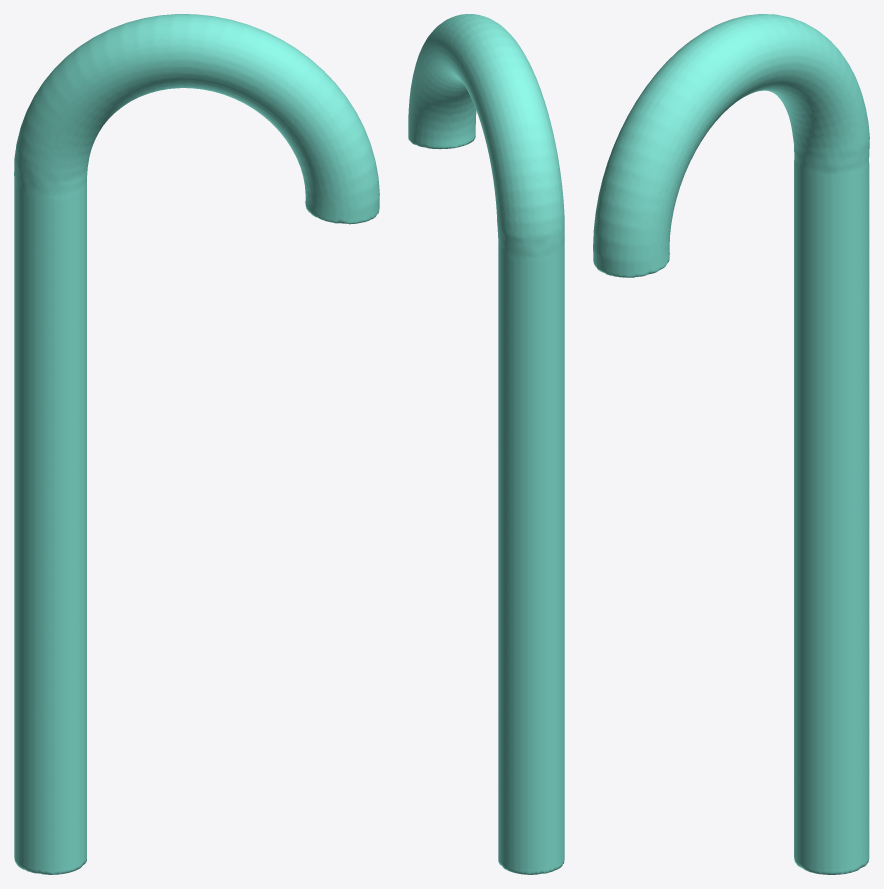
Rendered from Cane.fbx.
3 renders of one model, left to right at view 1: azimuth 30°, elevation 25°; view 2: azimuth 150°, elevation 25°; view 3: azimuth 270°, elevation 25°, orthographic. The views are drawn at different scales.
Visible parts, largest first — view 1: PM3D_Ring3D1; view 2: PM3D_Ring3D1; view 3: PM3D_Ring3D1.
Part boxes in pixels (x1,y1,x2,y2): PM3D_Ring3D1: [14, 14, 379, 874]; PM3D_Ring3D1: [408, 14, 564, 874]; PM3D_Ring3D1: [593, 14, 869, 874].
Size of the model in its own units: 2.07 by 6.54 by 1.86.
